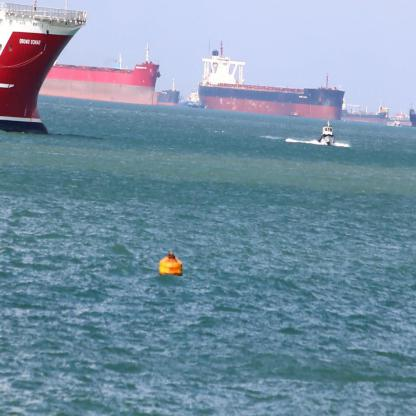Container Ship: (197, 40, 346, 125), (1, 1, 87, 140), (36, 43, 161, 109), (343, 101, 389, 125), (157, 78, 183, 109), (184, 84, 204, 112), (391, 107, 413, 128)
